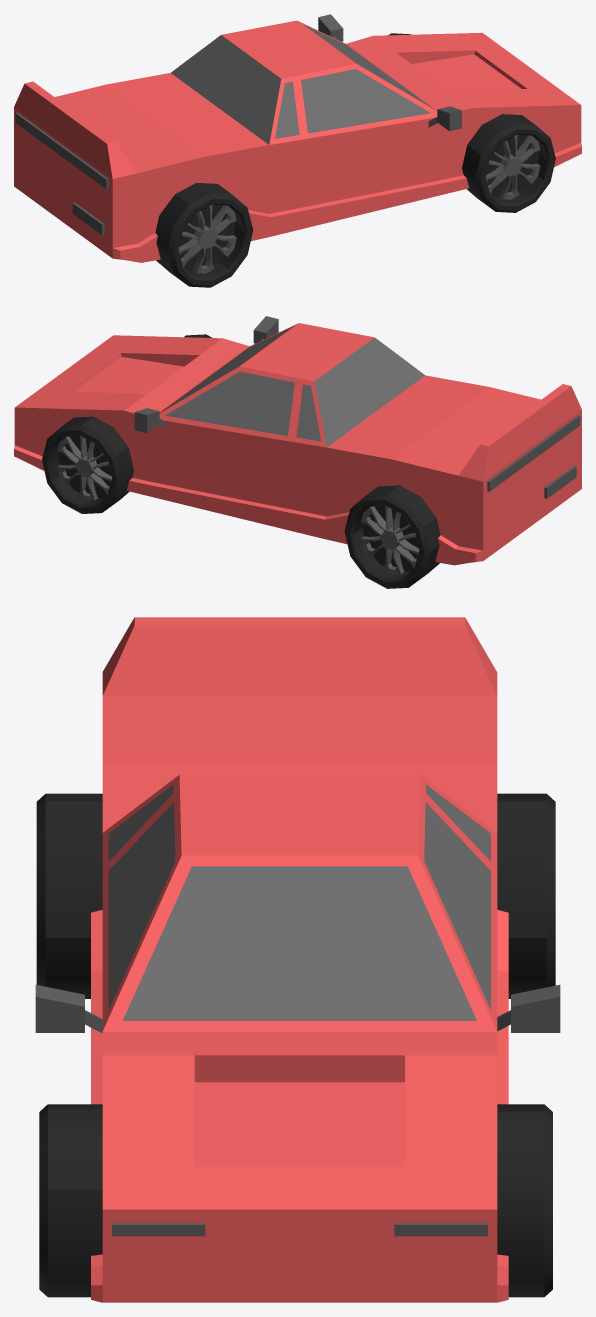
The model's file is Car02.fbx.
The picture shows the model from 3 angles, top to bottom: view 1: azimuth 30°, elevation 25°; view 2: azimuth 150°, elevation 25°; view 3: azimuth 270°, elevation 25°; orthographic projection. The views are drawn at different scales.
Parts seen in each view (by area): view 1: Car_02; view 2: Car_02; view 3: Car_02.
Boxes of the visible parts, x1=… form: Car_02: x1=14, y1=14, x2=581, y2=287; Car_02: x1=14, y1=316, x2=581, y2=588; Car_02: x1=35, y1=617, x2=560, y2=1302.
Bounding box in the file's own units: 18.99 × 6.1 × 9.12.
